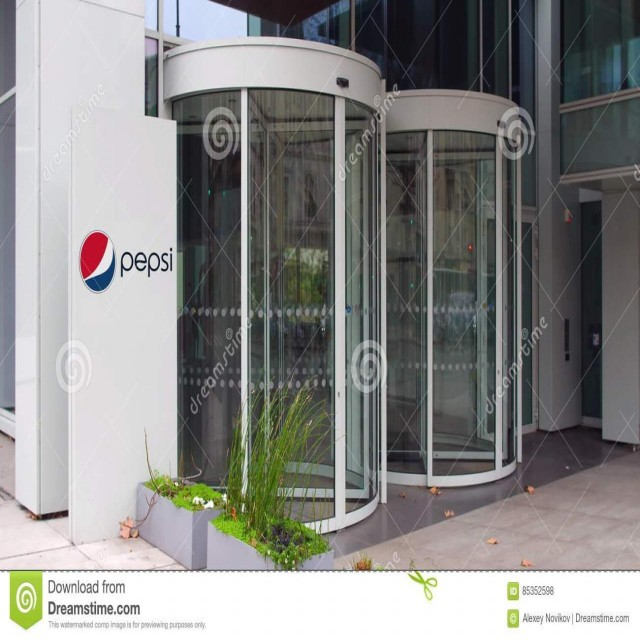pepsi: (76, 226, 119, 297)
